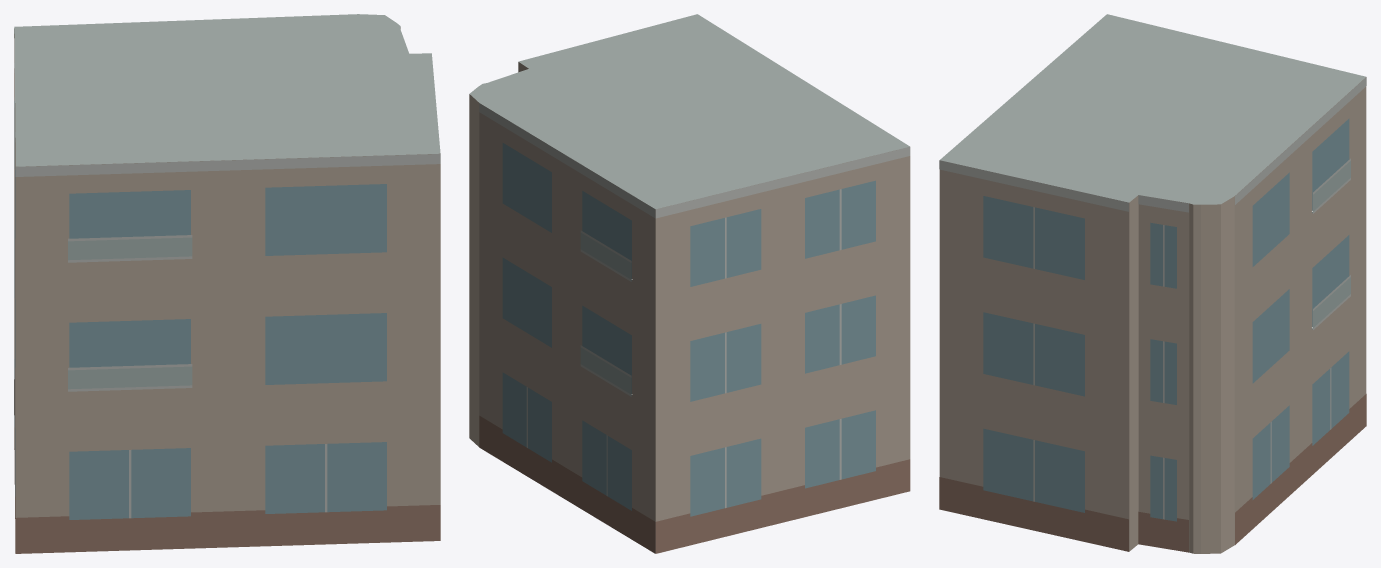
File: survey-upis-33002772.glb
3 renders of one model, left to right at view 1: azimuth 30°, elevation 25°; view 2: azimuth 150°, elevation 25°; view 3: azimuth 270°, elevation 25°, orthographic. The views are drawn at different scales.
Visible parts, largest first — view 1: survey-upis-33002772.tmp; view 2: survey-upis-33002772.tmp; view 3: survey-upis-33002772.tmp.
Boxes of the visible parts, <box> form: survey-upis-33002772.tmp: <box>14,14,440,553</box>; survey-upis-33002772.tmp: <box>469,14,910,553</box>; survey-upis-33002772.tmp: <box>939,14,1366,553</box>.
Size of the model in its own units: 10.72 by 9.15 by 10.15.
